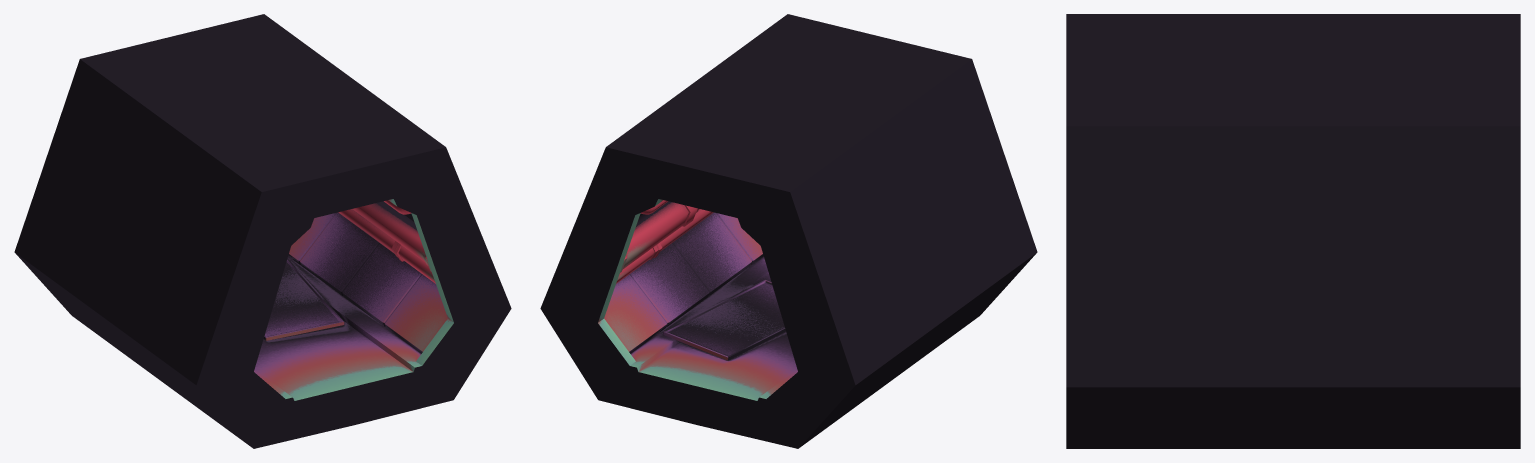
The model's file is mod_Straight_3.glb.
The picture shows the model from 3 angles, left to right: view 1: azimuth 30°, elevation 25°; view 2: azimuth 150°, elevation 25°; view 3: azimuth 270°, elevation 25°; orthographic projection. The views are drawn at different scales.
Visible parts, largest first — view 1: Plane.047, Plane.062, BézierCurve.135; view 2: Plane.047, Plane.062, BézierCurve.135; view 3: Plane.047.
Part boxes in pixels (x1=…): Plane.047: x1=14, y1=14, x2=511, y2=448; Plane.062: x1=264, y1=258, x2=344, y2=340; BézierCurve.135: x1=338, y1=201, x2=435, y2=283; Plane.047: x1=540, y1=14, x2=1037, y2=448; Plane.062: x1=663, y1=279, x2=785, y2=360; BézierCurve.135: x1=616, y1=201, x2=713, y2=283; Plane.047: x1=1066, y1=14, x2=1520, y2=448.
Bounding box in the file's own units: 5 × 3.87 × 5.
2 materials, 2 textured.
